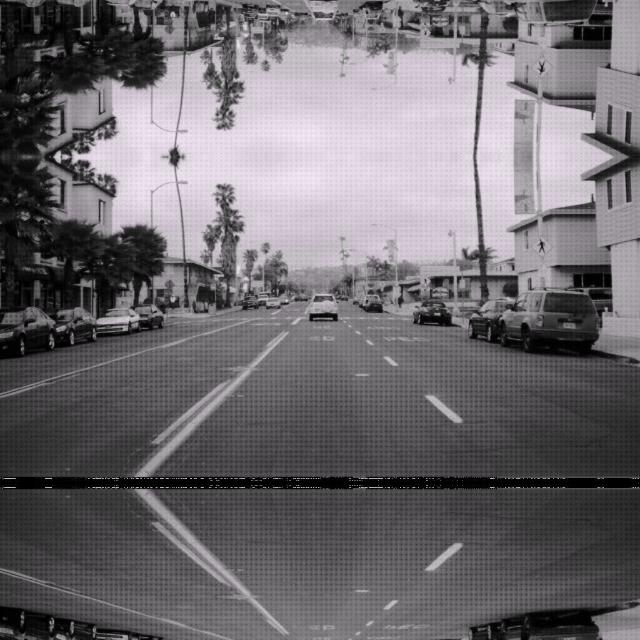pedestrianCrossing: (530, 234, 552, 256), (530, 56, 552, 78), (418, 274, 432, 286), (418, 26, 432, 38)
